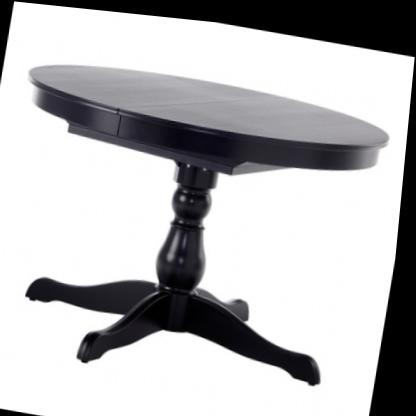Table: (0, 40, 403, 405)
